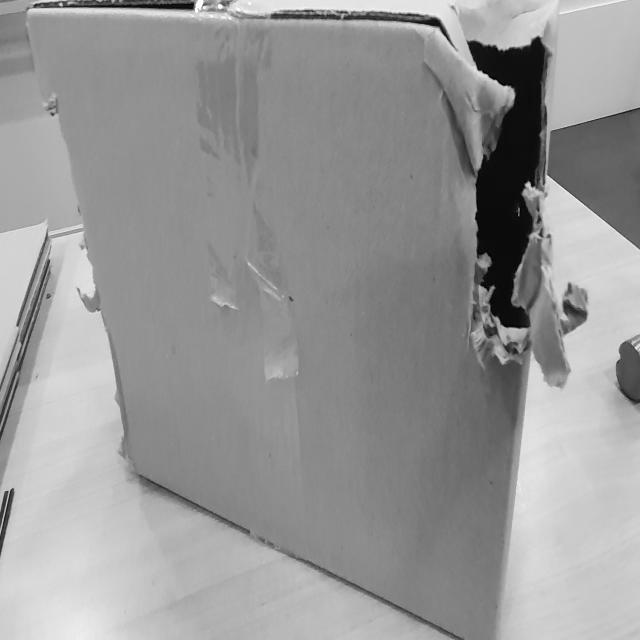hole: (433, 6, 549, 384)
